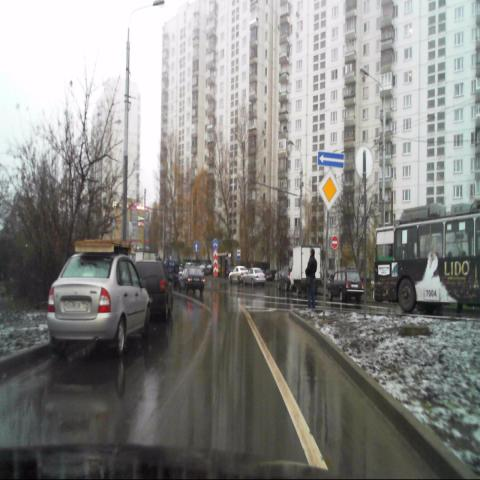5_7_2: (317, 150, 343, 168)
